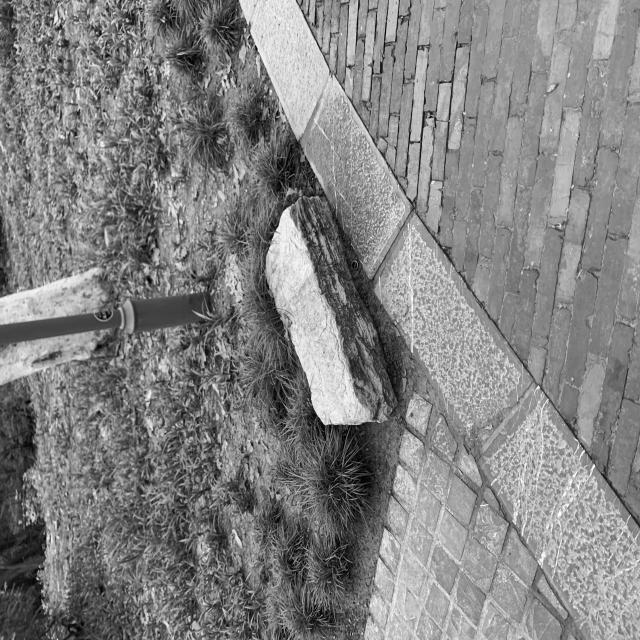Stone: (266, 196, 396, 425)
